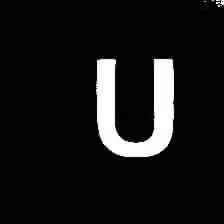LTR_U: (87, 49, 179, 161)
